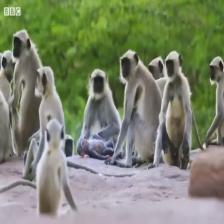monkey: (118, 47, 140, 86), (162, 44, 184, 82), (35, 64, 54, 103), (11, 28, 34, 60), (44, 118, 66, 150), (87, 68, 109, 99), (206, 52, 224, 86), (146, 53, 166, 82), (1, 47, 12, 72)
